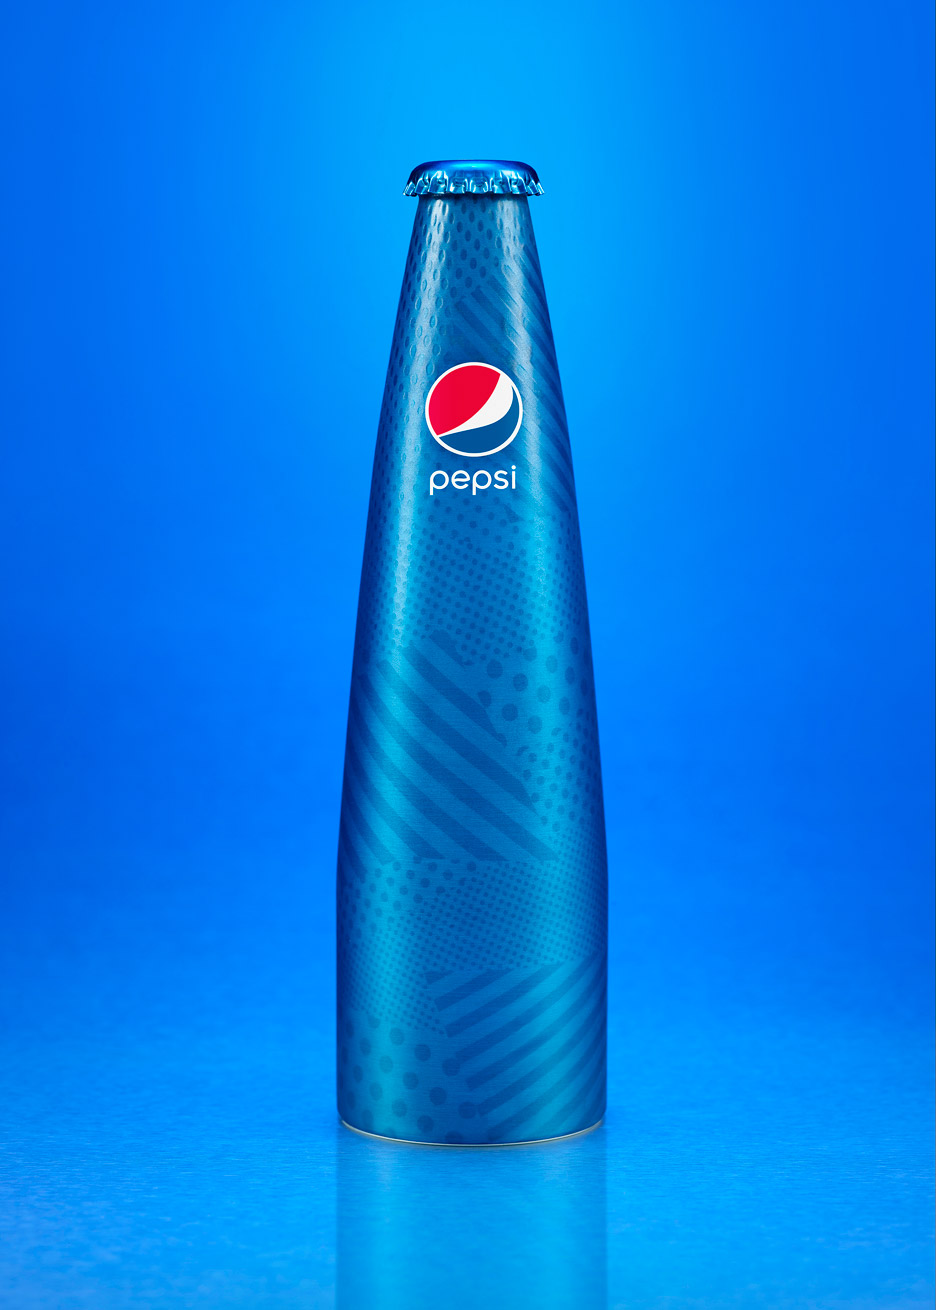pepsi: (426, 360, 517, 451)
